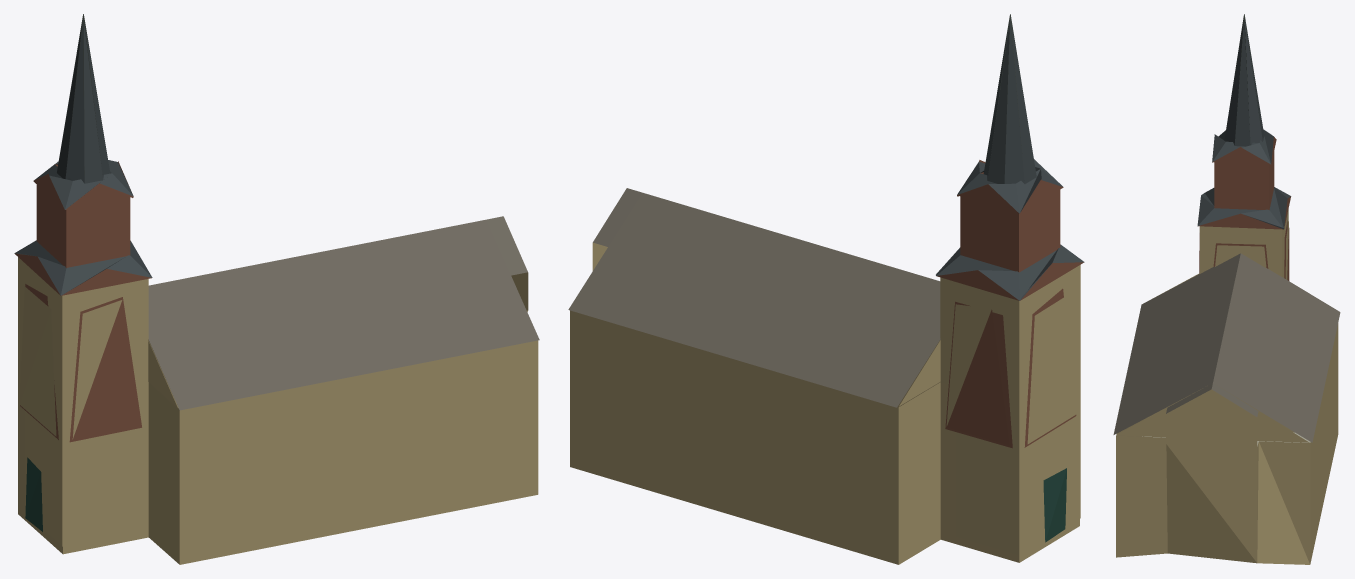
Rendered from nieuwendammerkerk.lod2.glb.
The picture shows the model from 3 angles, left to right: view 1: azimuth 30°, elevation 25°; view 2: azimuth 150°, elevation 25°; view 3: azimuth 270°, elevation 25°; orthographic projection. The views are drawn at different scales.
Visible parts, largest first — view 1: lod2; view 2: lod2; view 3: lod2.
Boxes of the visible parts, bbox=[...] form: lod2: bbox=[14, 14, 539, 564]; lod2: bbox=[568, 14, 1084, 564]; lod2: bbox=[1113, 14, 1340, 564].
Size of the model in its own units: 24.69 by 26.65 by 13.68.
